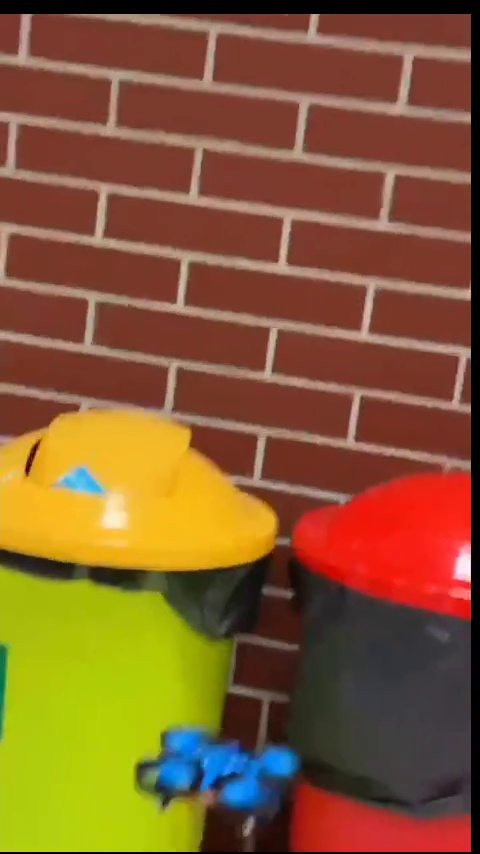drone: (136, 725, 304, 827)
